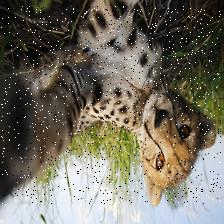Cheetha: (0, 6, 220, 204)
